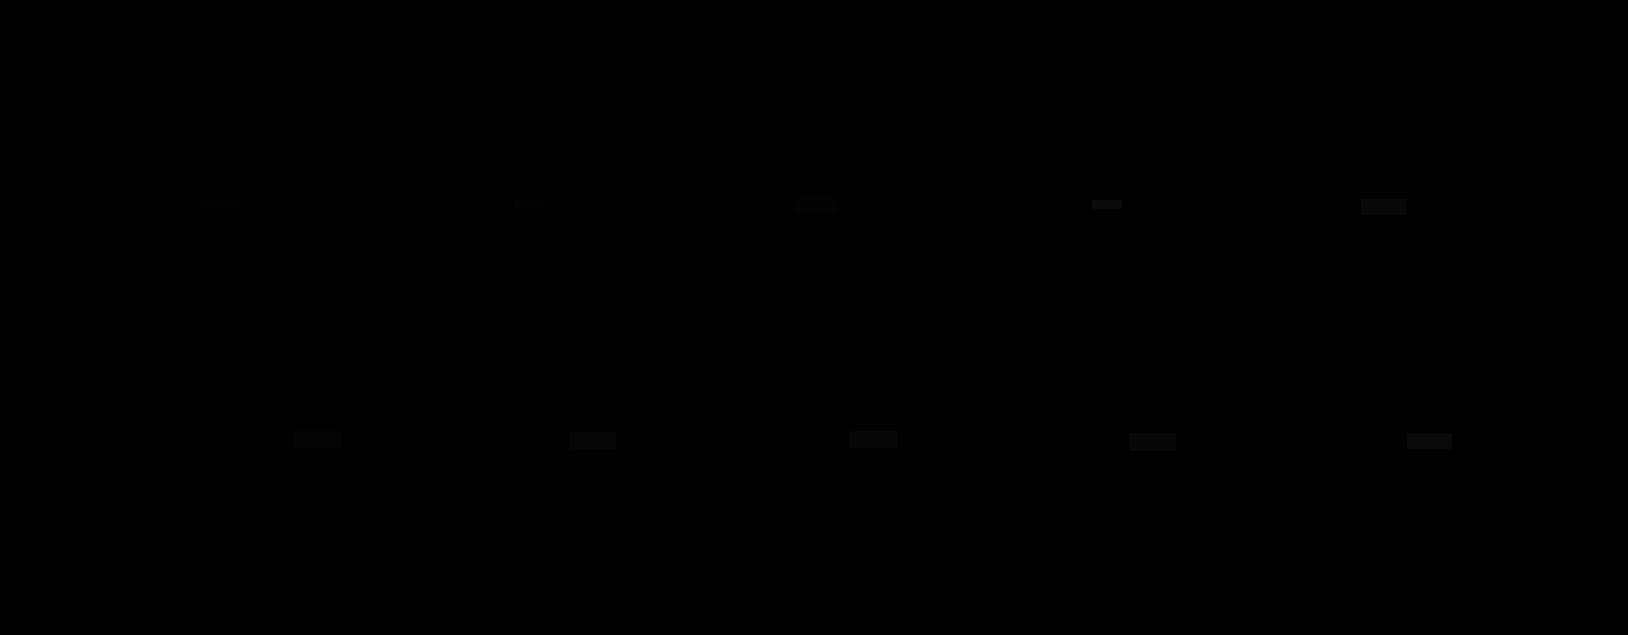light: (1129, 433, 1176, 451), (569, 432, 616, 450), (293, 431, 341, 448), (849, 431, 897, 448), (1407, 433, 1451, 449), (1361, 199, 1406, 215), (200, 196, 242, 212), (795, 197, 837, 213), (514, 199, 544, 208), (1092, 200, 1122, 209)
